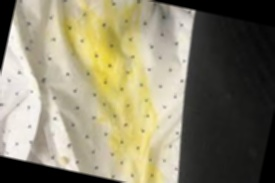mustard: (75, 17, 156, 125), (94, 95, 162, 180), (58, 9, 122, 75)
